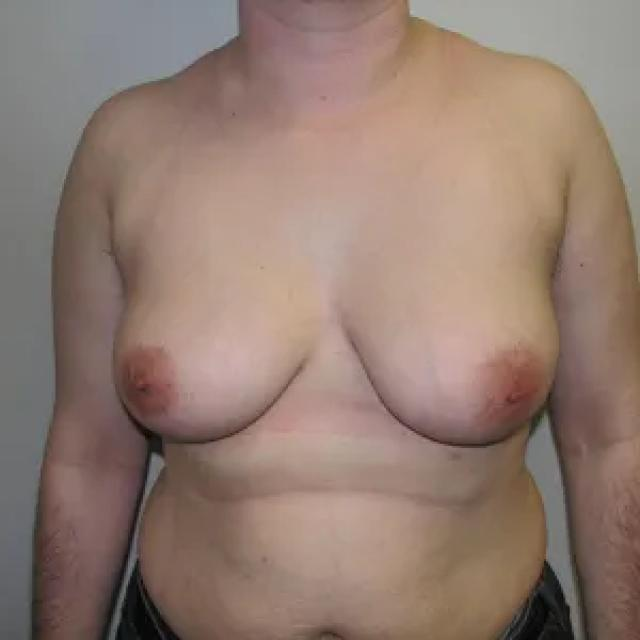Seno ileso: (340, 235, 568, 463), (106, 238, 324, 459)
